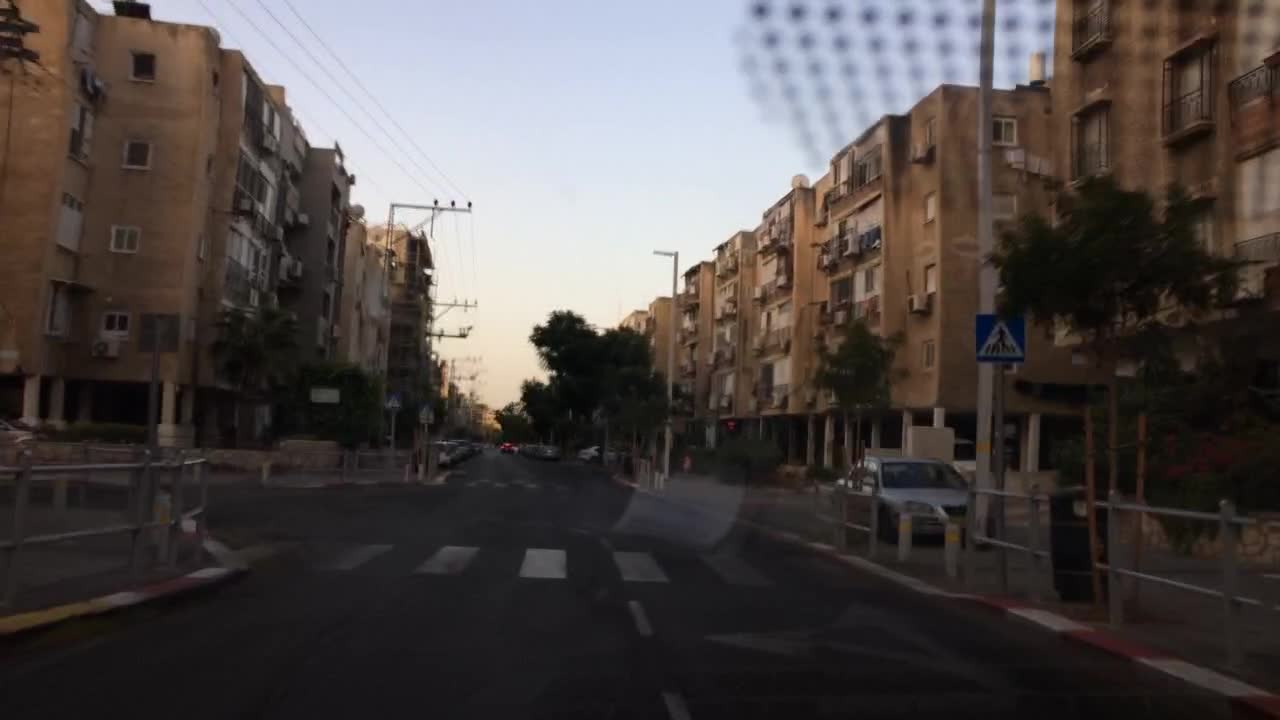car: (833, 449, 987, 546), (0, 420, 37, 478), (577, 441, 627, 467), (424, 439, 455, 466), (448, 437, 471, 456), (540, 444, 560, 460), (497, 439, 516, 453), (471, 440, 484, 455), (511, 440, 526, 453), (527, 442, 540, 456)
traffic sign: (975, 313, 1028, 361), (311, 385, 340, 405), (419, 406, 434, 424), (385, 395, 400, 408)
